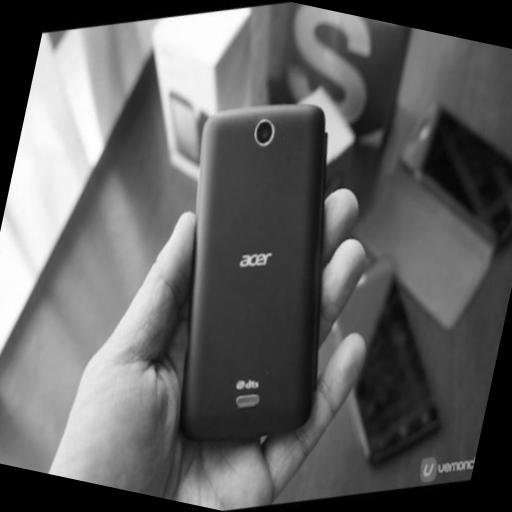phone: (183, 100, 328, 434), (337, 249, 453, 462), (388, 105, 512, 252)
